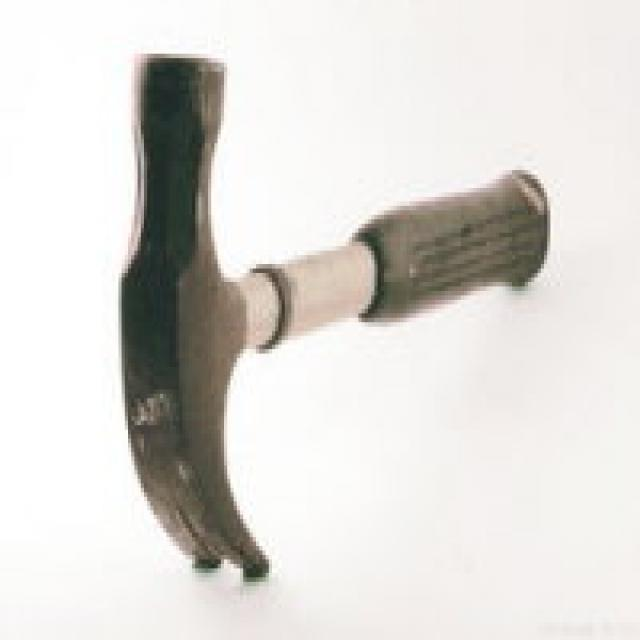hammer: (107, 32, 568, 600)
